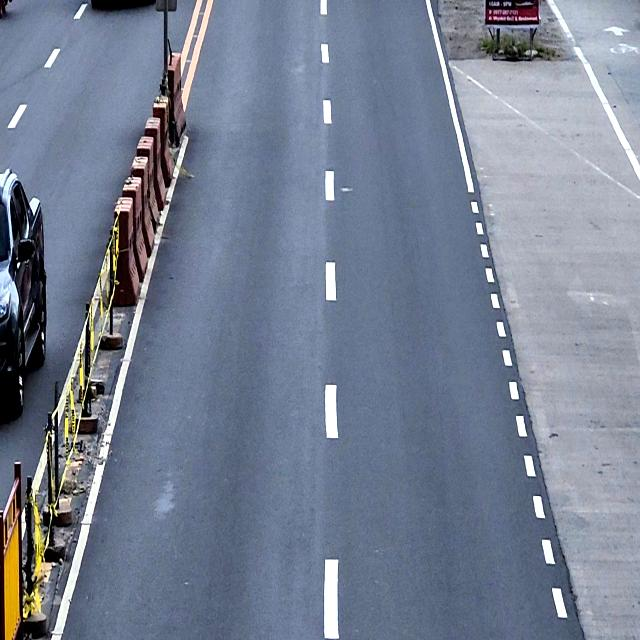Car: (0, 167, 48, 421)
